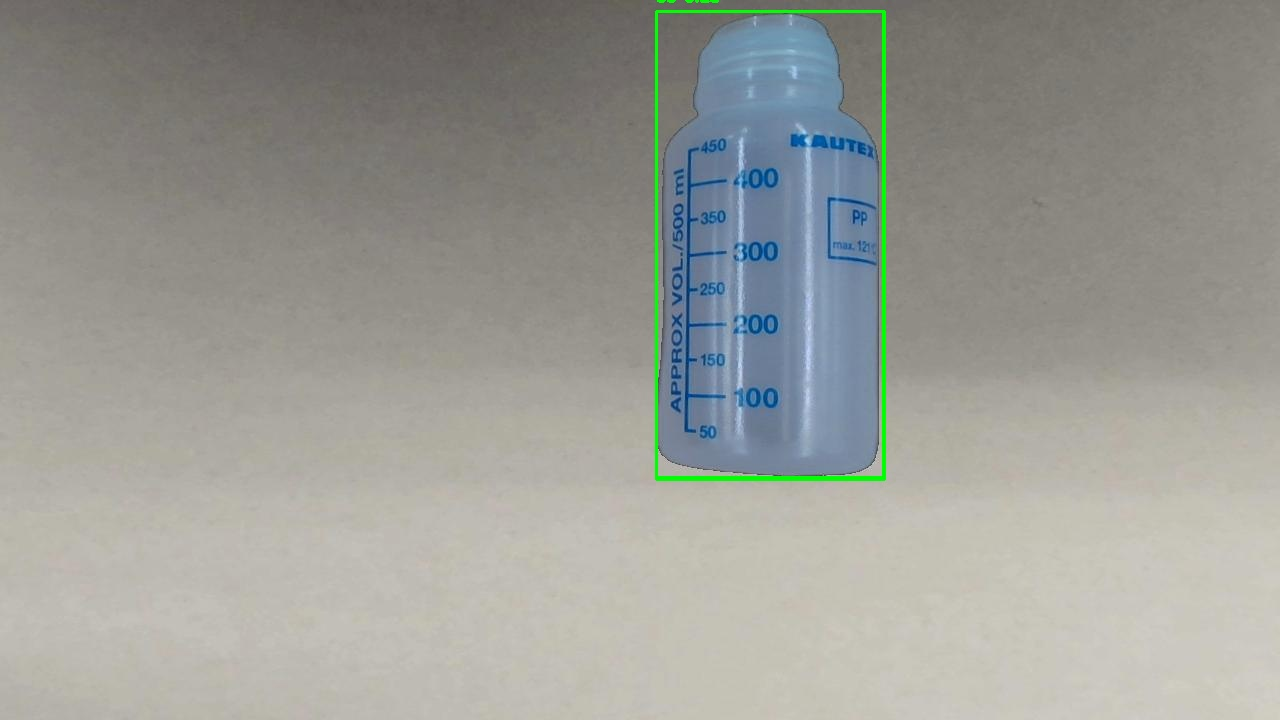cup: (656, 11, 884, 479)
